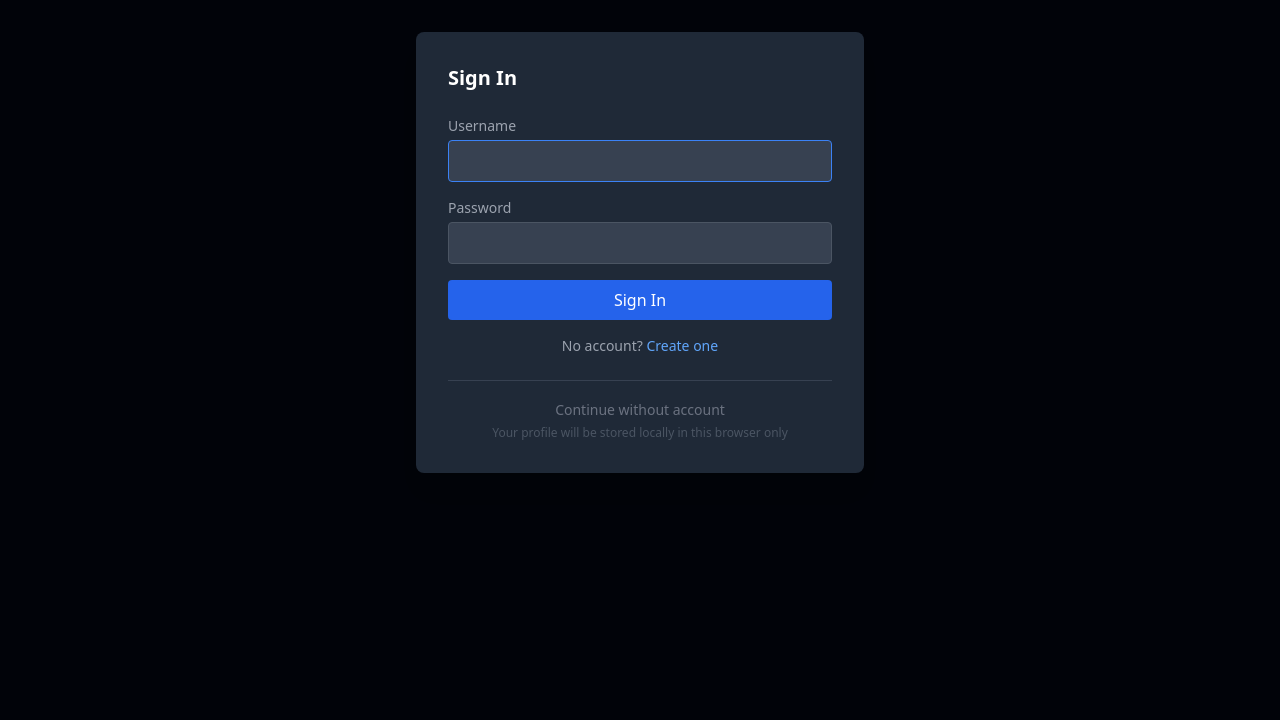
Test: LoginView › associates labels and uses login versus registration autocomplete semantics
Click the button "Create one" at (682, 346), box top-left (646, 336), bottom-right (718, 356)
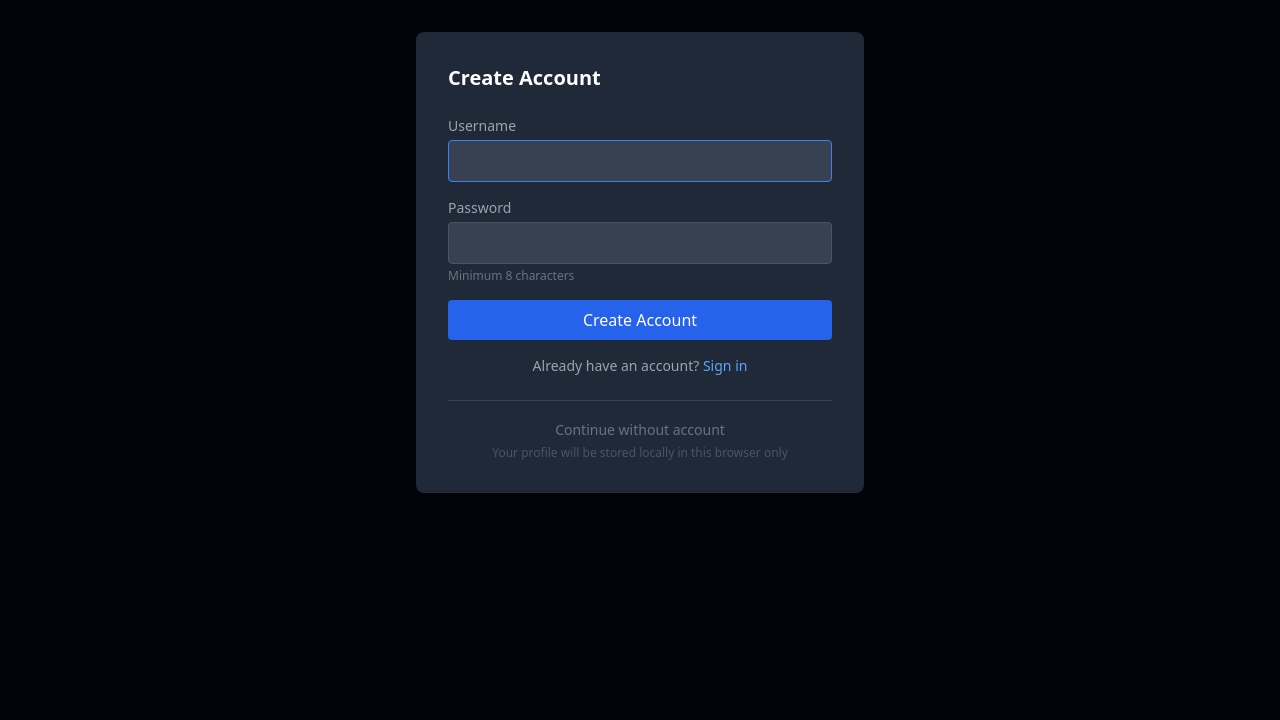
expect the dialog "Create Account" is shown: met
